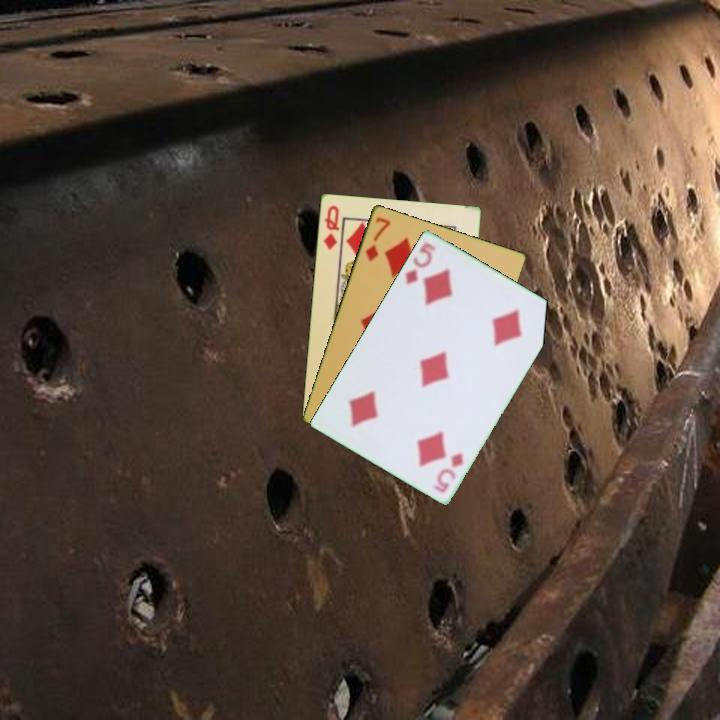5d: (401, 238, 439, 288), (430, 449, 467, 495)
7d: (361, 213, 393, 264)
Qd: (320, 202, 342, 253)
